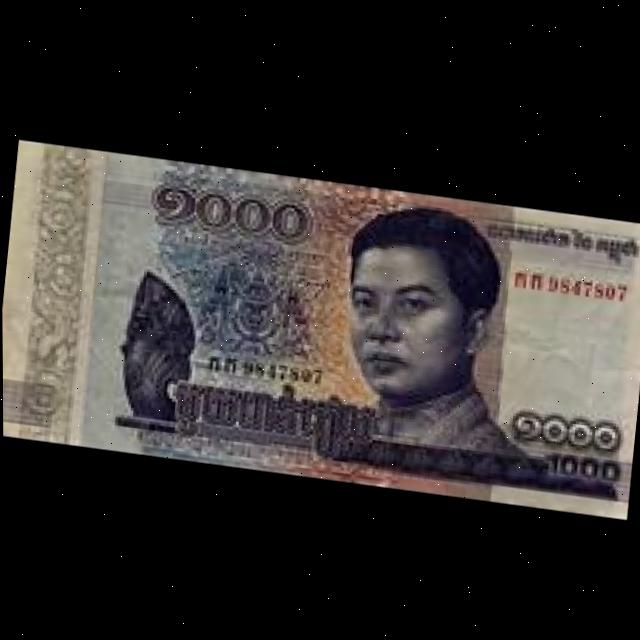banknote: (1, 136, 640, 513), (537, 444, 626, 494)
